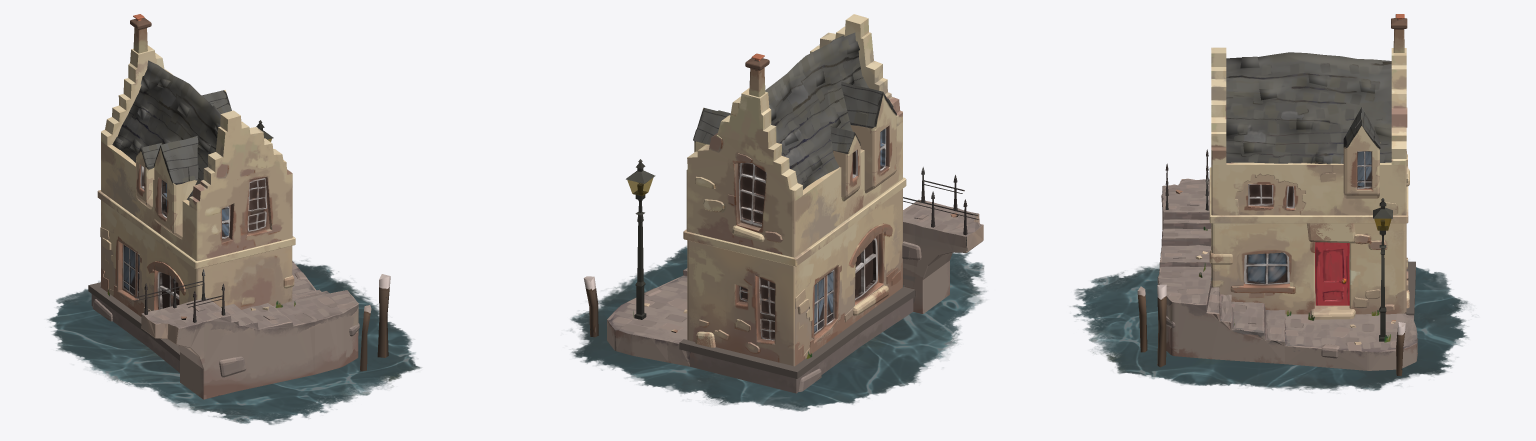
Rendered from dutch_house.glb.
3 renders of one model, left to right at view 1: azimuth 30°, elevation 25°; view 2: azimuth 150°, elevation 25°; view 3: azimuth 270°, elevation 25°, orthographic. The views are drawn at different scales.
Visible parts, largest first — view 1: soloport_props_high_poly, soloport_house_highpoly, soloport_alpha; view 2: soloport_house_highpoly, soloport_props_high_poly, soloport_alpha; view 3: soloport_props_high_poly, soloport_house_highpoly, soloport_alpha.
Boxes of the visible parts, box(x1,y1,x2,y2) form: soloport_props_high_poly: box(88, 14, 390, 399); soloport_house_highpoly: box(97, 45, 295, 316); soloport_alpha: box(47, 138, 421, 424); soloport_house_highpoly: box(683, 14, 906, 366); soloport_props_high_poly: box(583, 32, 983, 393); soloport_alpha: box(570, 177, 986, 411); soloport_props_high_poly: box(1137, 14, 1417, 375); soloport_house_highpoly: box(1209, 47, 1408, 319); soloport_alpha: box(1073, 218, 1468, 390).
Bounding box in the file's own units: 1067 × 722 × 1067.
Materials: 3 (3 with a texture image).
